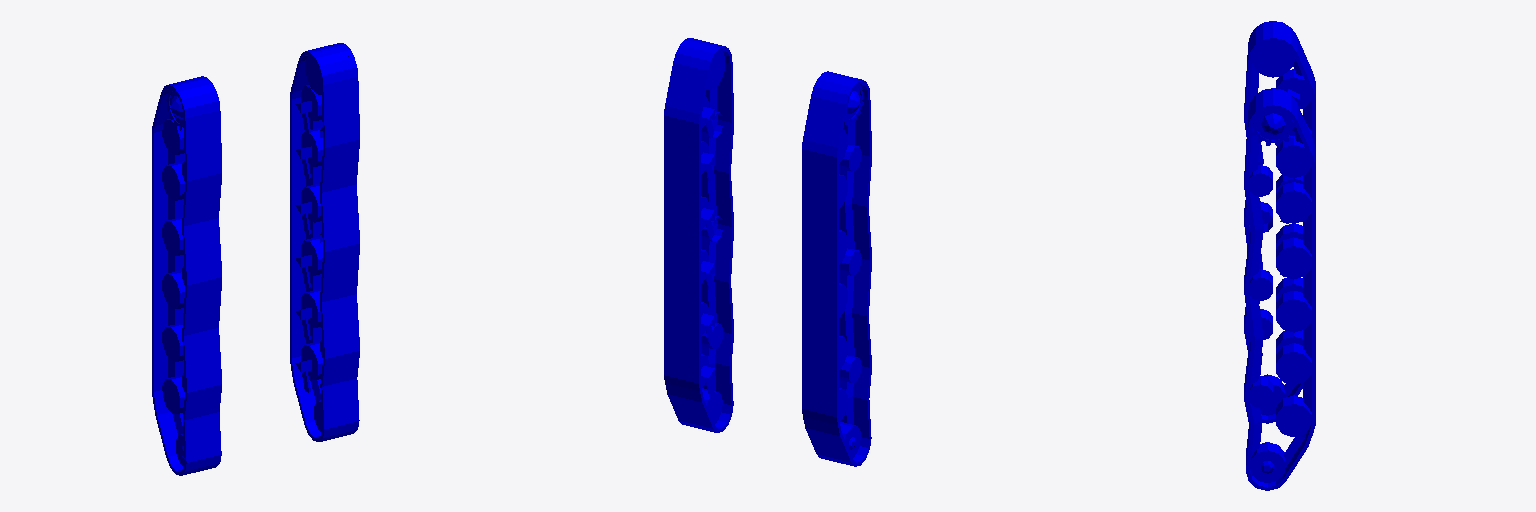
The model's file is Chassis.obj.
3 views of the same model, side by side, from view 1: azimuth 30°, elevation 25°; view 2: azimuth 150°, elevation 25°; view 3: azimuth 270°, elevation 25° (orthographic).
Visible parts, largest first — view 1: 3D_Object_2, 3D_Object_1, 3D_Object_3, 3D_Object_4; view 2: 3D_Object_2, 3D_Object_1, 3D_Object_3, 3D_Object_4; view 3: 3D_Object_3, 3D_Object_1, 3D_Object_4, 3D_Object_2.
Part boxes in pixels (bbox=[...]): 3D_Object_2: bbox=[152, 76, 221, 475]; 3D_Object_1: bbox=[290, 43, 359, 441]; 3D_Object_3: bbox=[295, 48, 348, 433]; 3D_Object_4: bbox=[162, 90, 184, 467]; 3D_Object_2: bbox=[802, 71, 871, 466]; 3D_Object_1: bbox=[664, 38, 733, 432]; 3D_Object_3: bbox=[687, 39, 724, 423]; 3D_Object_4: bbox=[839, 85, 863, 457]; 3D_Object_3: bbox=[1248, 103, 1311, 482]; 3D_Object_1: bbox=[1244, 88, 1315, 490]; 3D_Object_4: bbox=[1249, 28, 1311, 415]; 3D_Object_2: bbox=[1244, 21, 1315, 423].
Size of the model in its own units: 3.07 by 6.42 by 1.07.